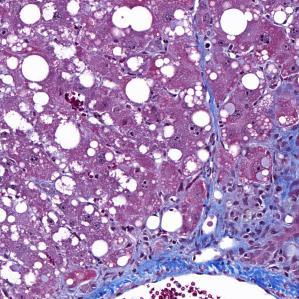fibrosis: (193, 148, 299, 248), (124, 254, 231, 278)
